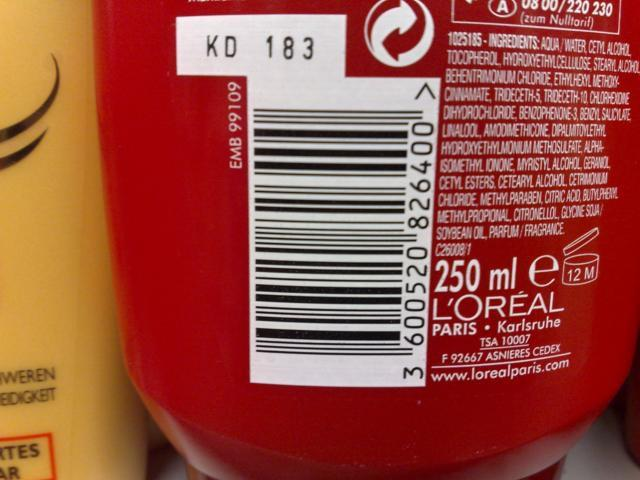Barcode: (248, 100, 440, 386)
